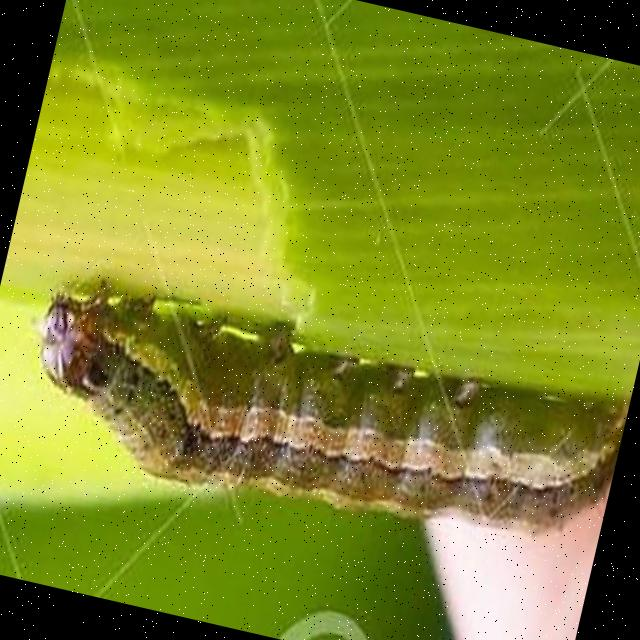worm: (13, 246, 636, 580)
